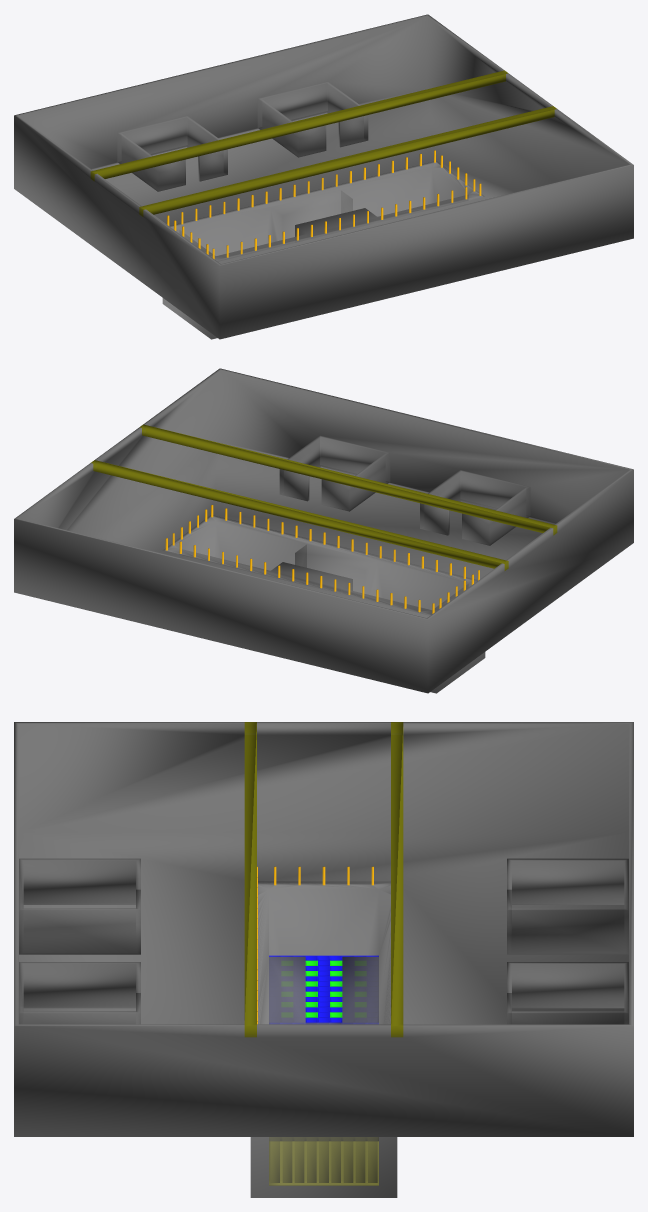
File: plant.obj
3 views of the same model, one above another, from view 1: azimuth 30°, elevation 25°; view 2: azimuth 150°, elevation 25°; view 3: azimuth 270°, elevation 25° (orthographic). The views are drawn at different scales.
Visible parts, largest first — view 1: OpenSCAD_Model; view 2: OpenSCAD_Model; view 3: OpenSCAD_Model.
Part boxes in pixels (x1,y1,x2,y2): OpenSCAD_Model: (14, 14, 633, 339); OpenSCAD_Model: (14, 368, 633, 693); OpenSCAD_Model: (14, 722, 633, 1197).
Bounding box in the file's own units: 0.295 × 0.1009 × 0.254.
